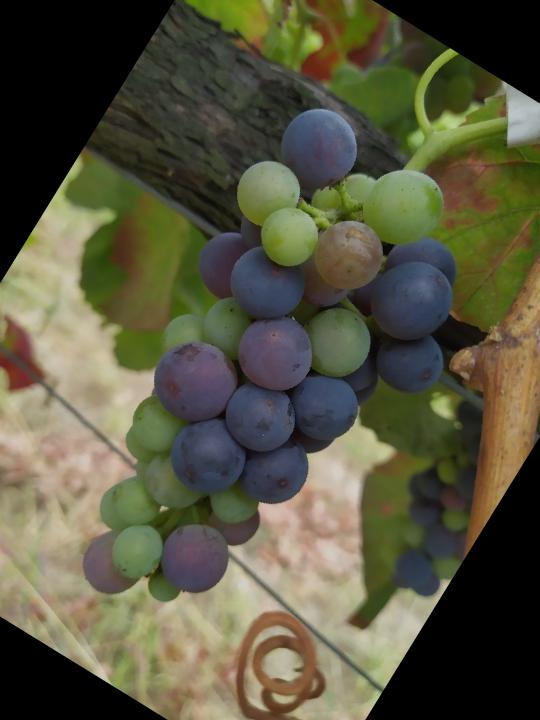grape: (13, 82, 533, 687)
